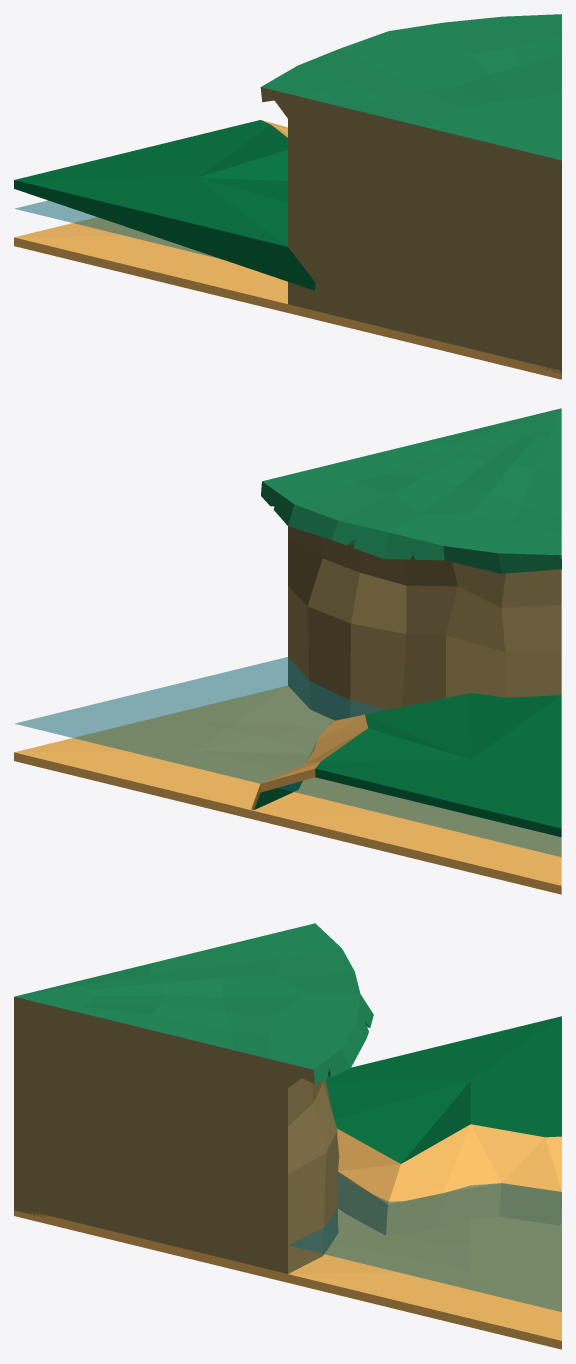
The model's file is tile10.glb.
The picture shows the model from 3 angles, top to bottom: view 1: azimuth 30°, elevation 25°; view 2: azimuth 150°, elevation 25°; view 3: azimuth 270°, elevation 25°; orthographic projection.
Visible parts, largest first — view 1: hill8.005, ground.023, sand7.005, water4.006; view 2: hill8.005, sand7.005, water4.006, ground.023; view 3: hill8.005, ground.023, sand7.005, water4.006.
Part boxes in pixels (box(x1,y1,x2,y2)): hill8.005: box(260, 14, 561, 373); ground.023: box(14, 120, 315, 290); sand7.005: box(14, 217, 561, 379); water4.006: box(15, 200, 219, 258); hill8.005: box(261, 408, 561, 720); sand7.005: box(14, 685, 561, 894); water4.006: box(15, 657, 561, 856); ground.023: box(251, 693, 561, 837); hill8.005: box(14, 923, 373, 1273); ground.023: box(325, 1016, 561, 1235); sand7.005: box(14, 1204, 561, 1349); water4.006: box(288, 1173, 561, 1311).
Size of the model in its own units: 1 by 0.3878 by 0.866.
